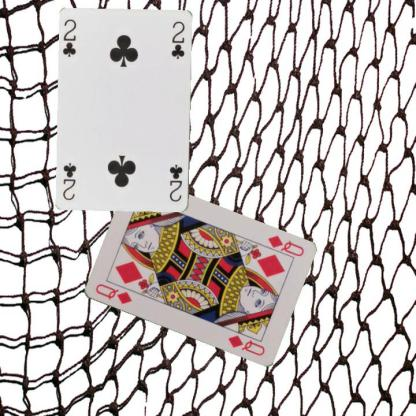2c: (60, 17, 78, 58), (167, 162, 184, 203)
Qd: (259, 232, 305, 260), (92, 281, 133, 306)
